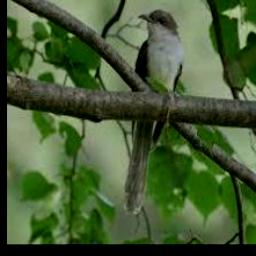Cuckoo: (125, 9, 184, 215)
